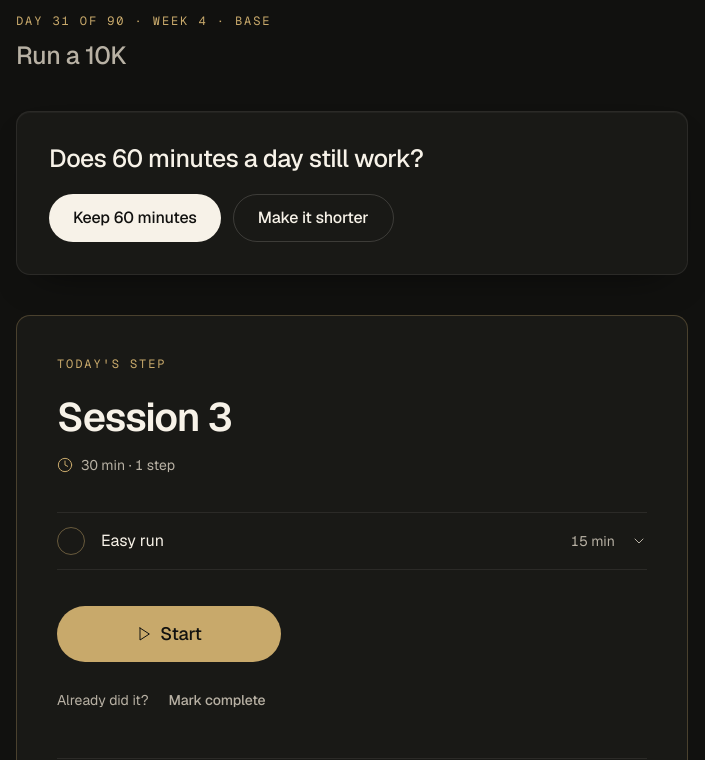
Test: The daily-time card (AC-5) › a failed answer says so and keeps the card
Expected: the heading "Run a 10K" is shown, x1=16 y1=39 x2=126 y2=71
Click the button "Keep 60 minutes" at x=135, y=218, box x1=49 y1=194 x2=221 y2=242
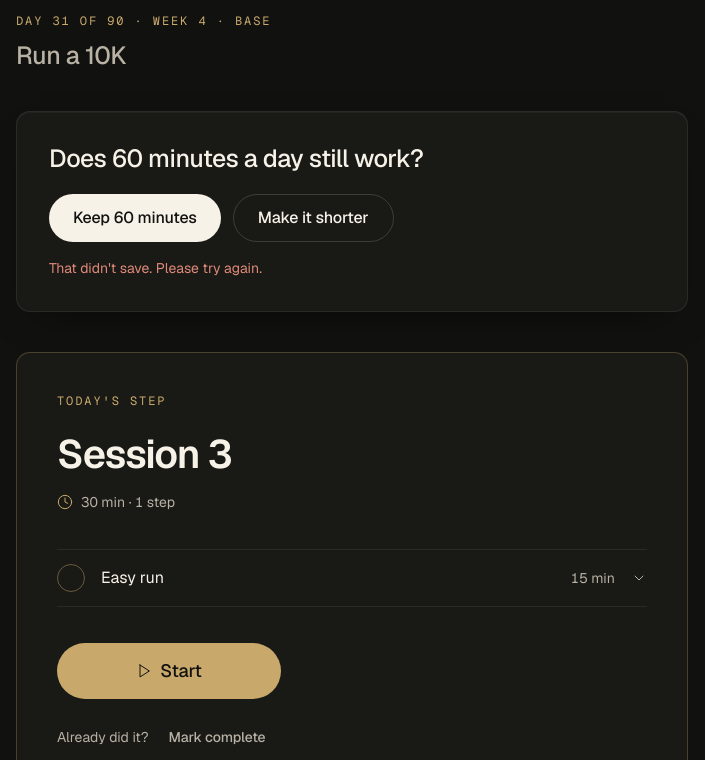
Expected: the element "Does 60 minutes a day still work?" is shown, x1=16 y1=111 x2=688 y2=312
Expected: the message reads "That didn't save. Please try again.", x1=49 y1=259 x2=262 y2=277
